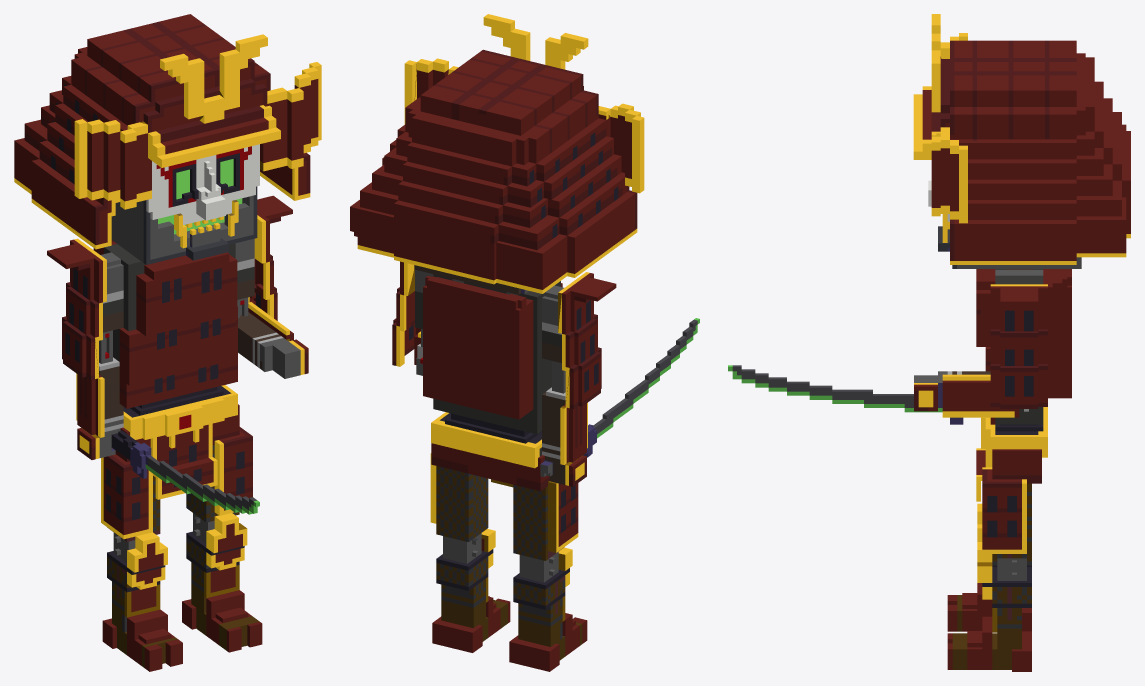
The model's file is samurai.glb.
3 renders of one model, left to right at view 1: azimuth 30°, elevation 25°; view 2: azimuth 150°, elevation 25°; view 3: azimuth 270°, elevation 25°, orthographic. The views are drawn at different scales.
Visible parts, largest first — view 1: samurai; view 2: samurai; view 3: samurai.
Boxes of the visible parts, x1,y1,x2,y2 form: samurai: (14,14,321,671); samurai: (350,14,699,671); samurai: (728,14,1130,671).
Bounding box in the file's own units: 5.85 × 14.14 × 8.53.
Materials: 6 (4 with a texture image).
